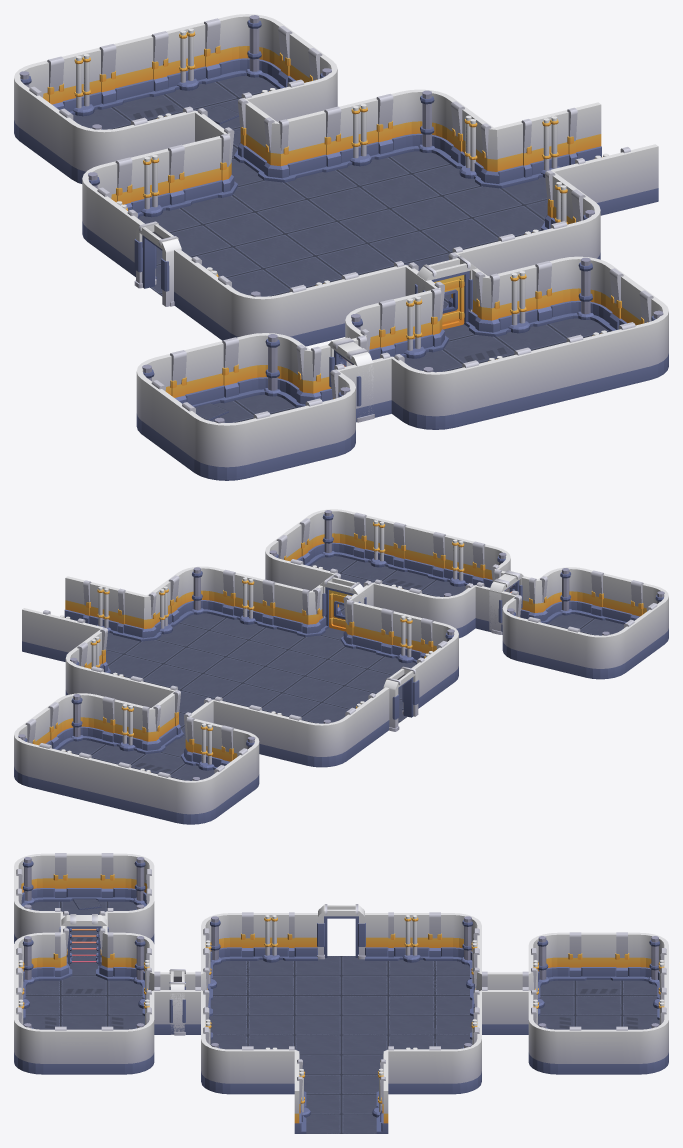
File: sala1(2).glb
3 views of the same model, one above another, from view 1: azimuth 30°, elevation 25°; view 2: azimuth 150°, elevation 25°; view 3: azimuth 270°, elevation 25° (orthographic). The views are drawn at different scales.
Parts seen in each view (by area): view 1: gate-door-window; view 2: gate-door-window; view 3: gate-door-window.
Boxes of the visible parts, left/top/right/bottom form: gate-door-window: left=14, top=14, right=668, bottom=480; gate-door-window: left=14, top=509, right=668, bottom=824; gate-door-window: left=14, top=853, right=668, bottom=1133.
Size of the model in its own units: 48 by 4.62 by 56.
80 materials, 80 textured.
